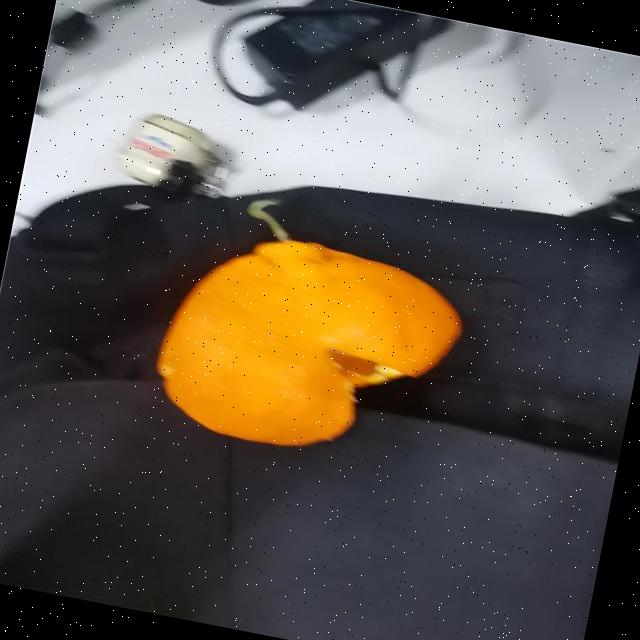orange-peel: (142, 214, 474, 478)
